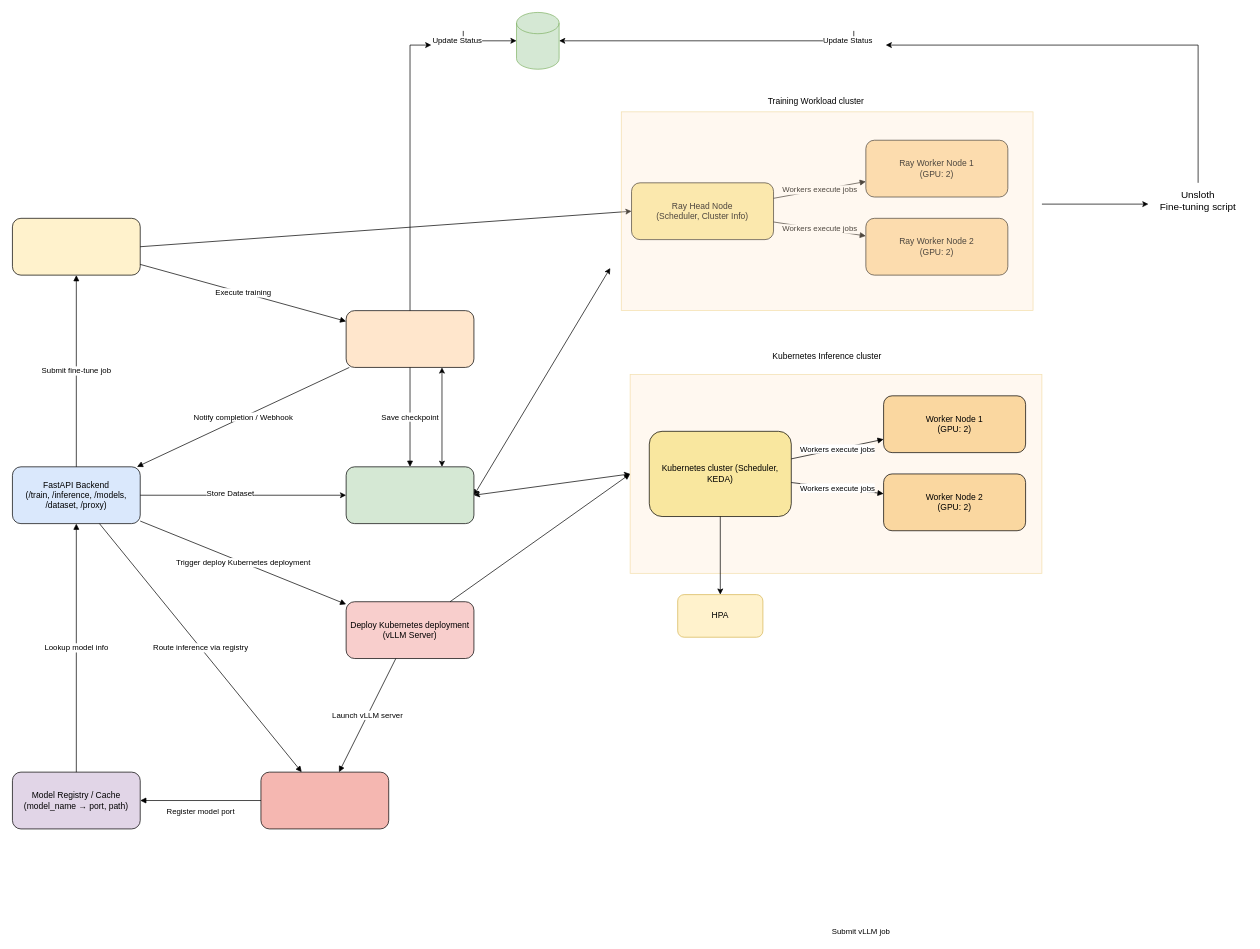
Image size: 1260x949. Some labels were removed from this diagram. Here are the shapes that lost their labels. From the top down, the centre of each, then its label:
At point (537, 40): "MongoDB".
At point (76, 246): "Ray Cluster (Job Submission Client)".
At point (409, 338): "Fine-tuning Ray Job (TRL / Unsloth)".
At point (409, 495): "Shared Model Storage (S3 / NFS)".
At point (324, 800): "vLLM Inference Server (OpenAI-compatible API)".
